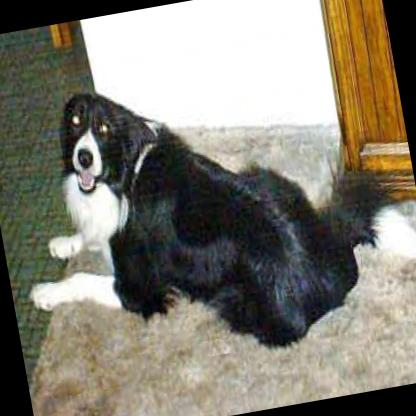Border_collie: (0, 31, 416, 392)
